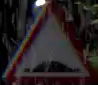Speed Breaker ahead: (6, 0, 91, 84)
